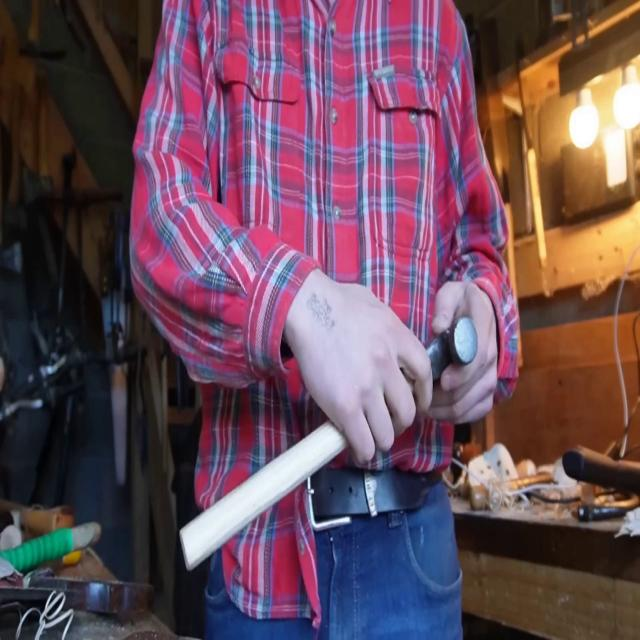hammer: (179, 316, 479, 572)
